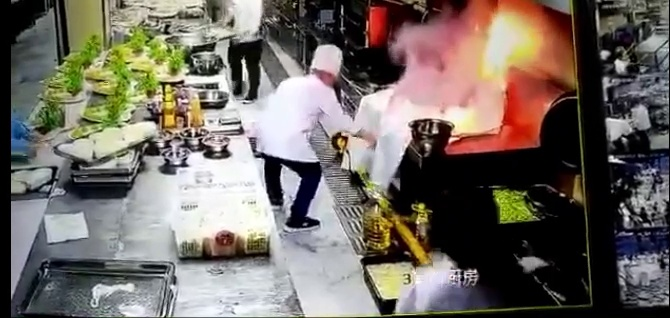fire: (473, 5, 541, 95)
